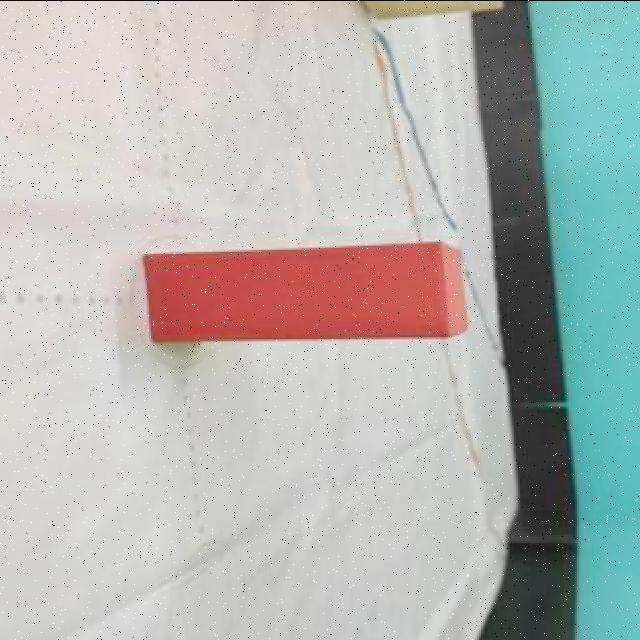redbox: (148, 240, 470, 342)
